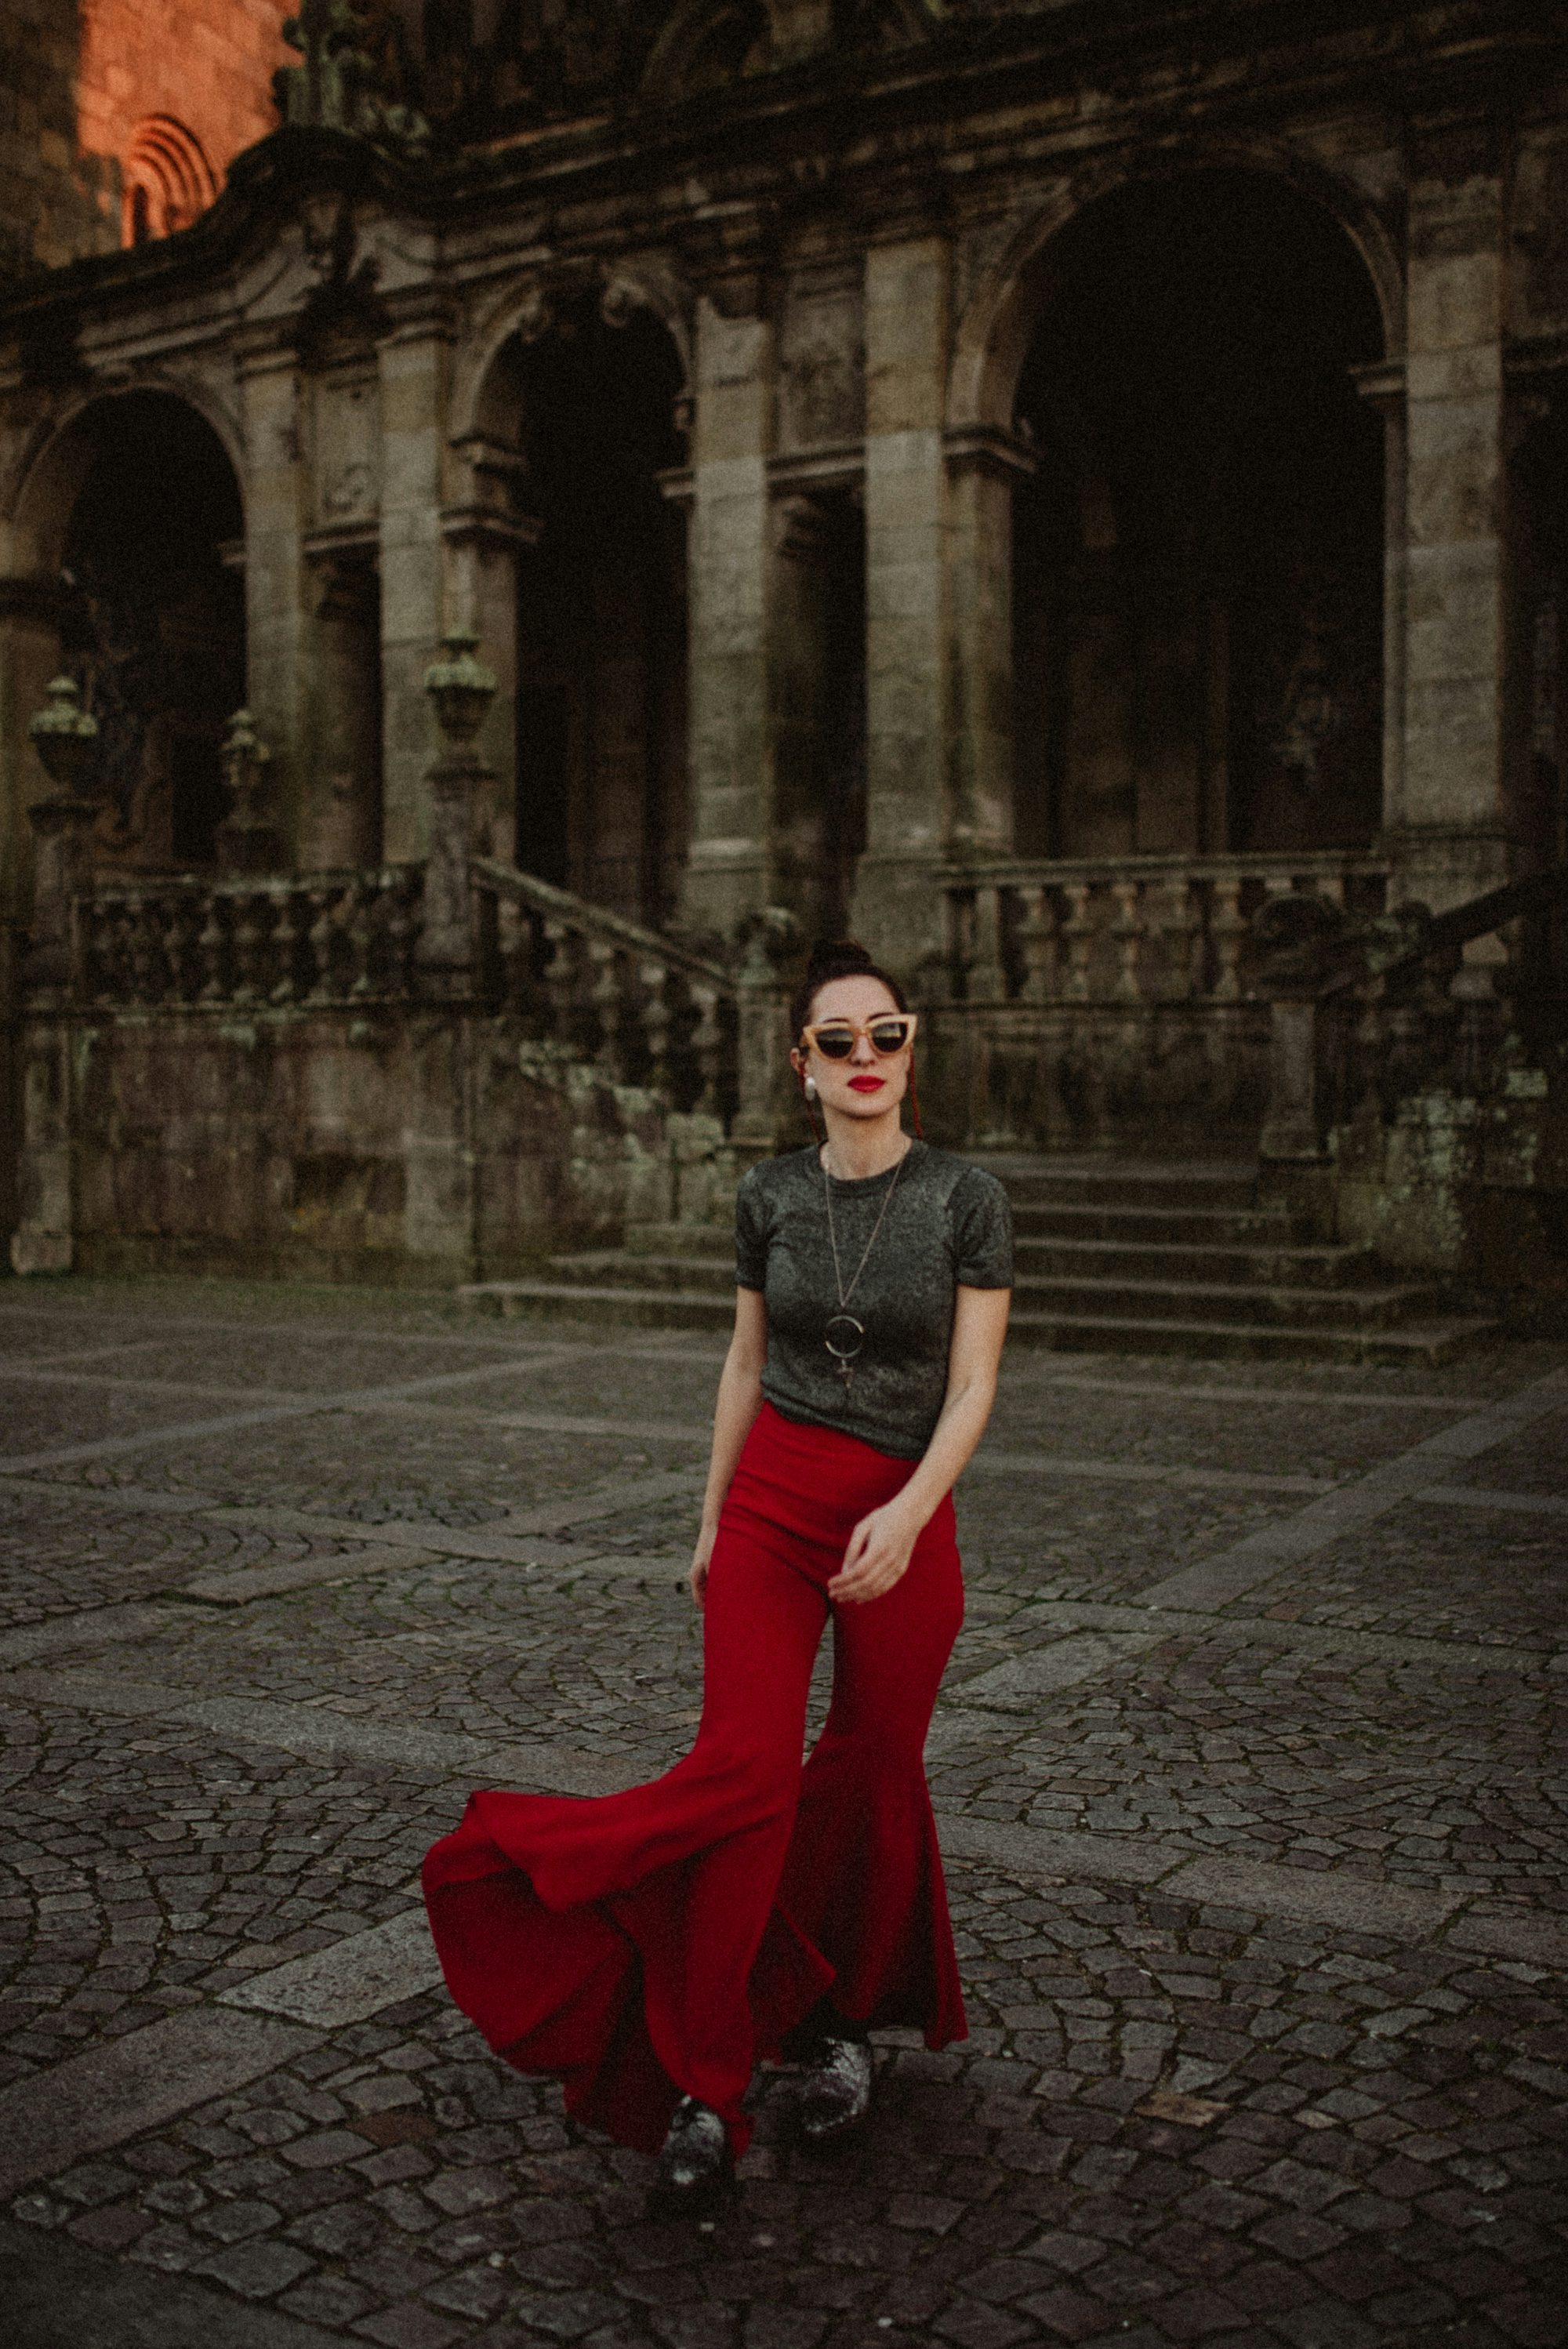person: (481, 914, 1113, 2203)
